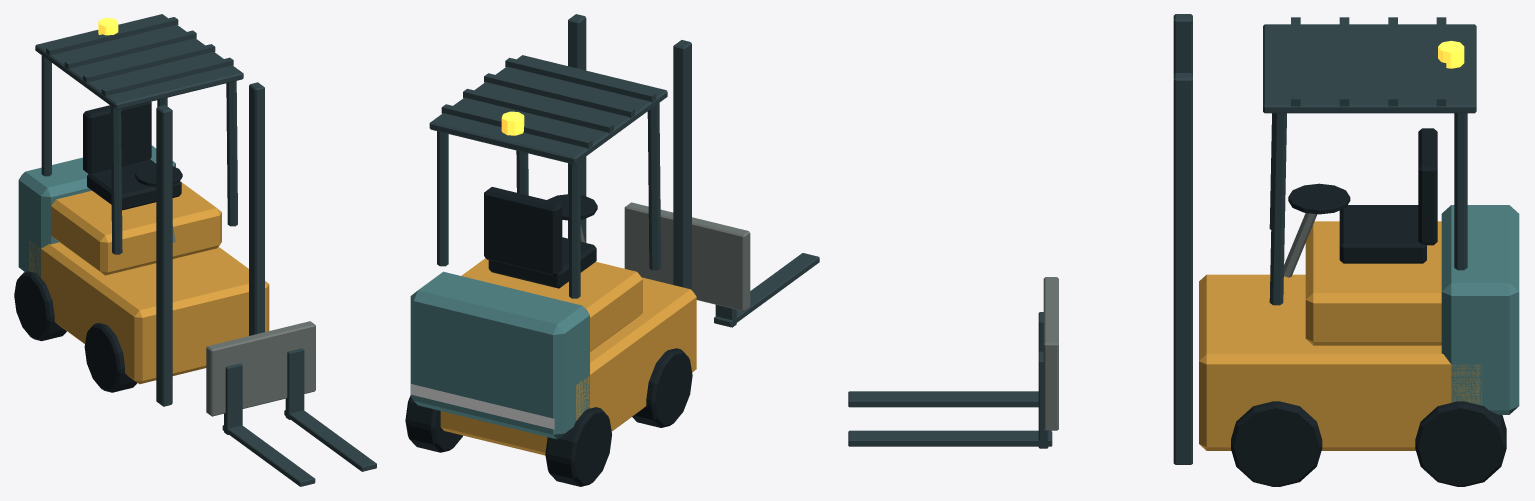
Rendered from forklift.glb.
3 renders of one model, left to right at view 1: azimuth 30°, elevation 25°; view 2: azimuth 150°, elevation 25°; view 3: azimuth 270°, elevation 25°, orthographic. The views are drawn at different scales.
Visible parts, largest first — view 1: forklift__forklift__amber, forklift__forklift__steel, forklift__forklift__rubber, forklift__fork-carriage__hardware, forklift__fork-carriage__steel, forklift__forklift__petrol; view 2: forklift__forklift__steel, forklift__forklift__petrol, forklift__forklift__amber, forklift__forklift__rubber, forklift__fork-carriage__hardware, forklift__fork-carriage__steel, forklift__forklift__decal-hazard, forklift__forklift__signal-amber; view 3: forklift__forklift__amber, forklift__forklift__steel, forklift__forklift__rubber, forklift__forklift__petrol, forklift__fork-carriage__steel, forklift__fork-carriage__hardware, forklift__forklift__hardware.
Boxes of the visible parts, bbox=[...] form: forklift__forklift__amber: bbox=[29, 181, 269, 384]; forklift__forklift__steel: bbox=[35, 14, 264, 406]; forklift__forklift__rubber: bbox=[14, 101, 182, 392]; forklift__fork-carriage__hardware: bbox=[206, 321, 315, 416]; forklift__fork-carriage__steel: bbox=[222, 348, 376, 486]; forklift__forklift__petrol: bbox=[18, 145, 175, 277]; forklift__forklift__steel: bbox=[429, 14, 691, 298]; forklift__forklift__petrol: bbox=[410, 271, 589, 439]; forklift__forklift__amber: bbox=[440, 258, 696, 455]; forklift__forklift__rubber: bbox=[405, 187, 692, 486]; forklift__fork-carriage__hardware: bbox=[624, 202, 750, 311]; forklift__fork-carriage__steel: bbox=[714, 253, 819, 327]; forklift__forklift__decal-hazard: bbox=[411, 384, 554, 429]; forklift__forklift__signal-amber: bbox=[501, 111, 524, 135]; forklift__forklift__amber: bbox=[1199, 221, 1482, 450]; forklift__forklift__steel: bbox=[1173, 14, 1476, 464]; forklift__forklift__rubber: bbox=[1231, 128, 1506, 486]; forklift__forklift__petrol: bbox=[1441, 205, 1519, 414]; forklift__fork-carriage__steel: bbox=[848, 312, 1052, 448]; forklift__fork-carriage__hardware: bbox=[1043, 277, 1058, 430]; forklift__forklift__hardware: bbox=[1284, 213, 1317, 277].
Size of the model in its own units: 1.15 by 2.25 by 3.46.
